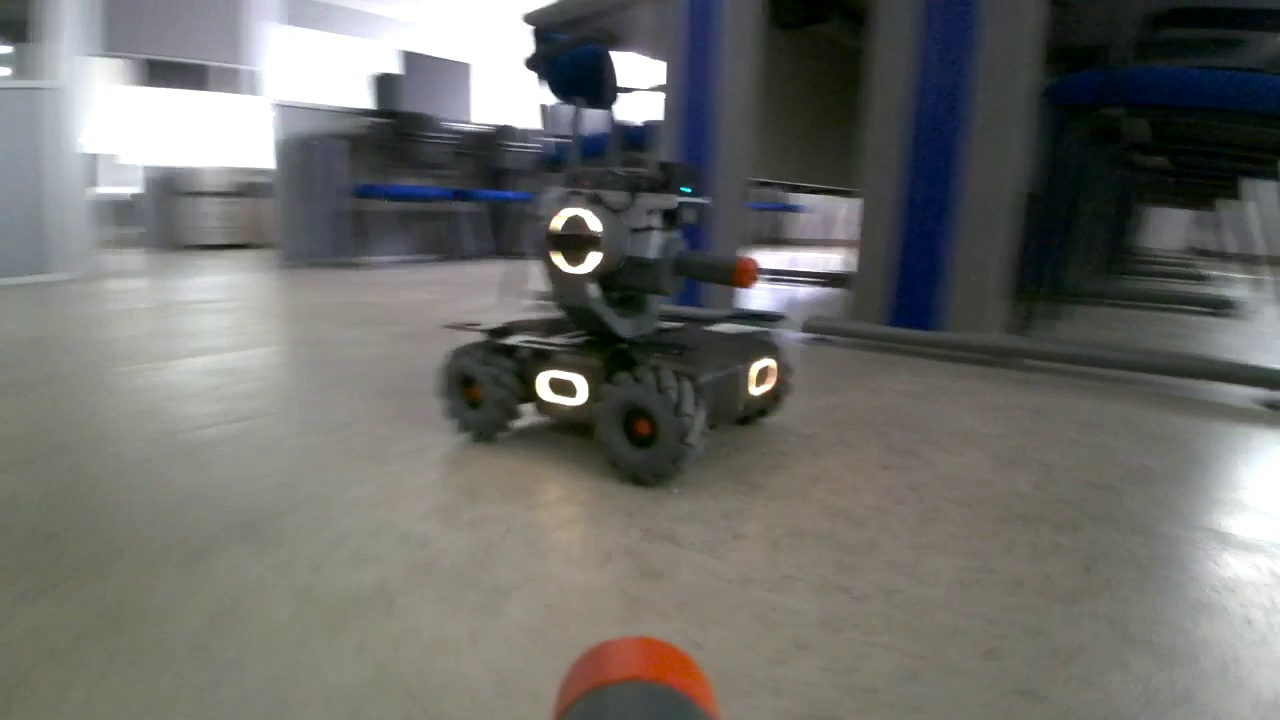robot: (442, 102, 793, 490)
